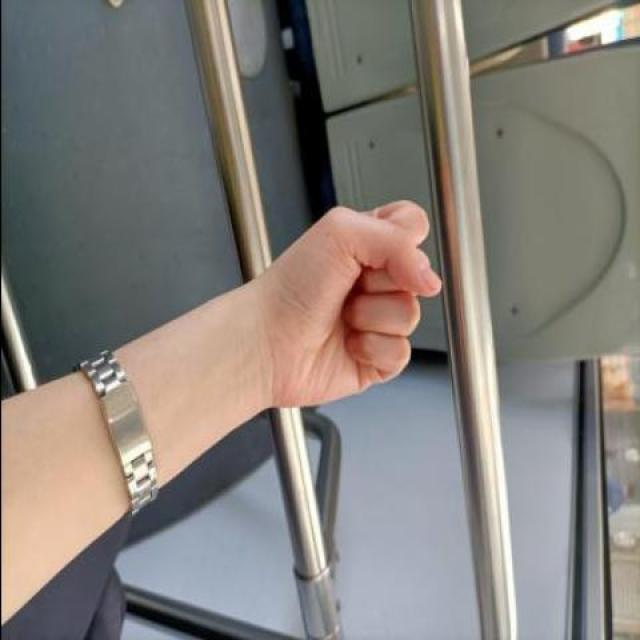Closed Hand: (235, 192, 438, 432)
